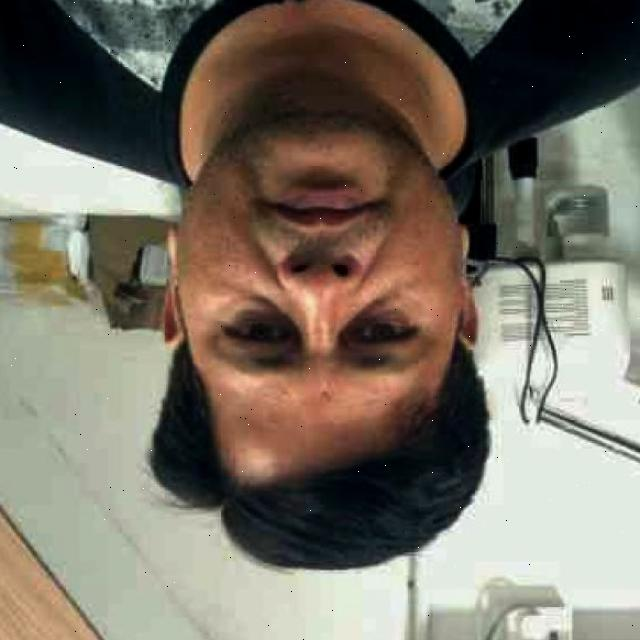puffy_eyes: (218, 296, 293, 325), (345, 293, 412, 323)
